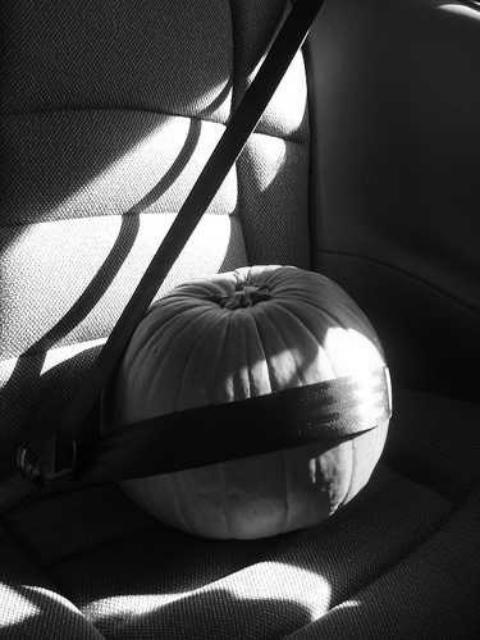Seatbelt: (17, 0, 397, 488)
